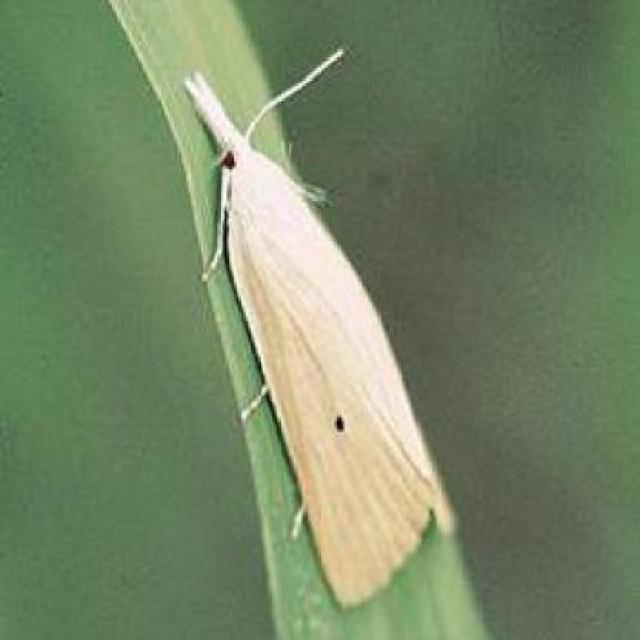stem-borer: (186, 49, 457, 612)
